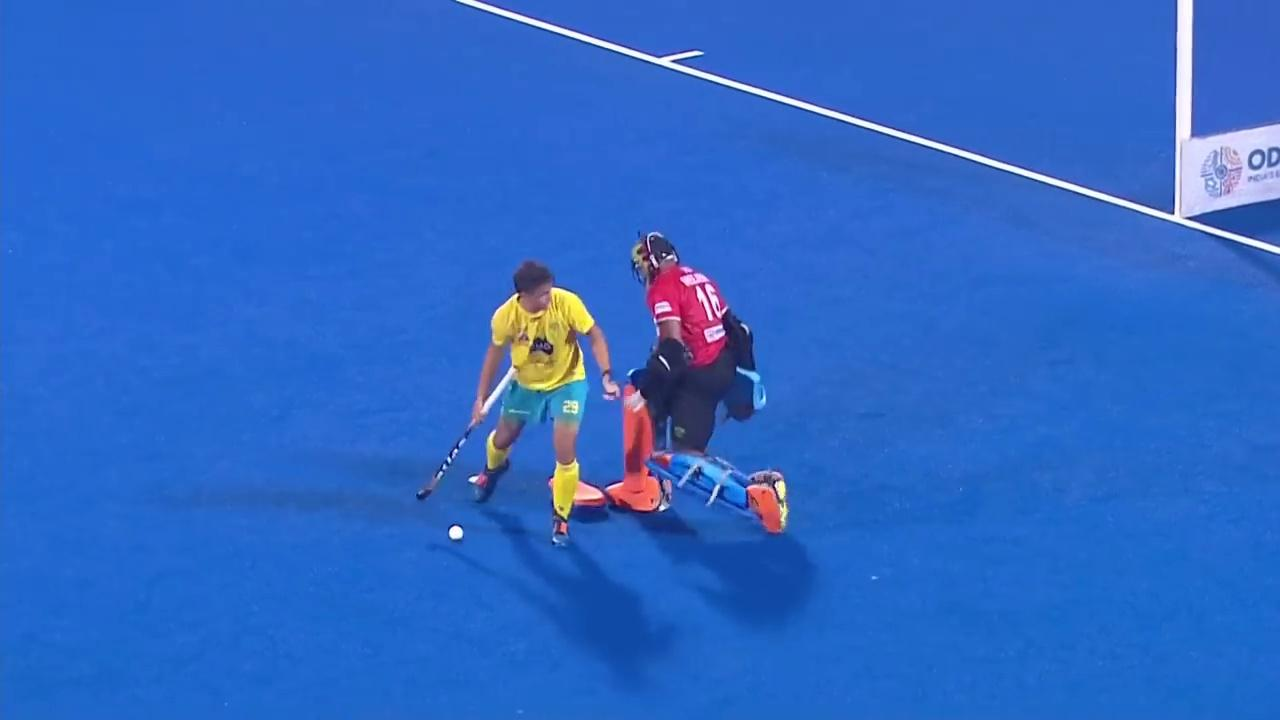ball: (430, 512, 470, 554)
